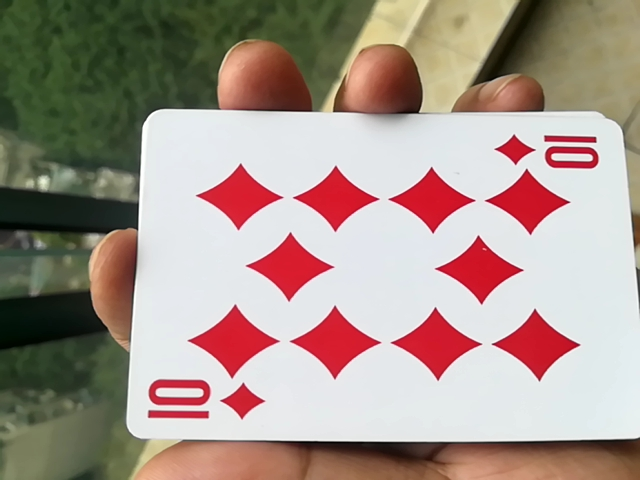fk 10: (118, 121, 640, 461)
